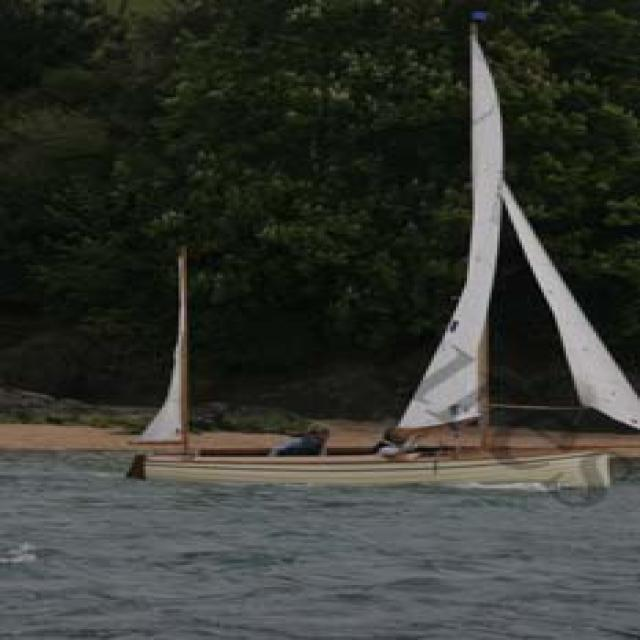Ship: (109, 34, 640, 499)
